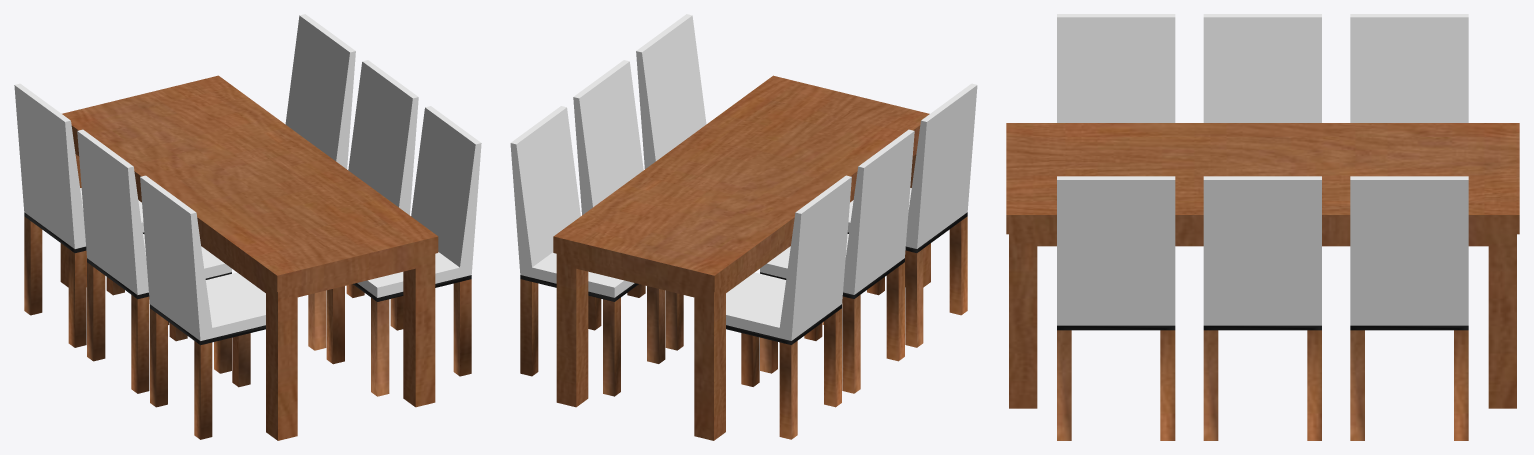
File: table.dae
3 renders of one model, left to right at view 1: azimuth 30°, elevation 25°; view 2: azimuth 150°, elevation 25°; view 3: azimuth 270°, elevation 25°, orthographic. The views are drawn at different scales.
Visible parts, largest first — view 1: Component_28 (×6), Component_3; view 2: Component_28 (×6), Component_3; view 3: Component_28 (×6), Component_3.
Boxes of the visible parts, left/top/right/bottom form: Component_28 (×6): left=14, top=14, right=481, bottom=439; Component_3: left=60, top=75, right=438, bottom=440; Component_28 (×6): left=510, top=14, right=977, bottom=439; Component_3: left=553, top=75, right=930, bottom=440; Component_28 (×6): left=1057, top=14, right=1468, bottom=440; Component_3: left=1006, top=123, right=1519, bottom=408.
Size of the model in its own units: 1.48 by 1.94 by 1.11.
5 materials, 2 textured.
